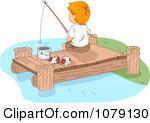person: (62, 1, 94, 53)
